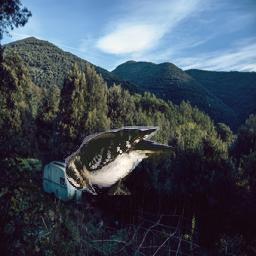Woodpecker: (58, 123, 176, 196)
